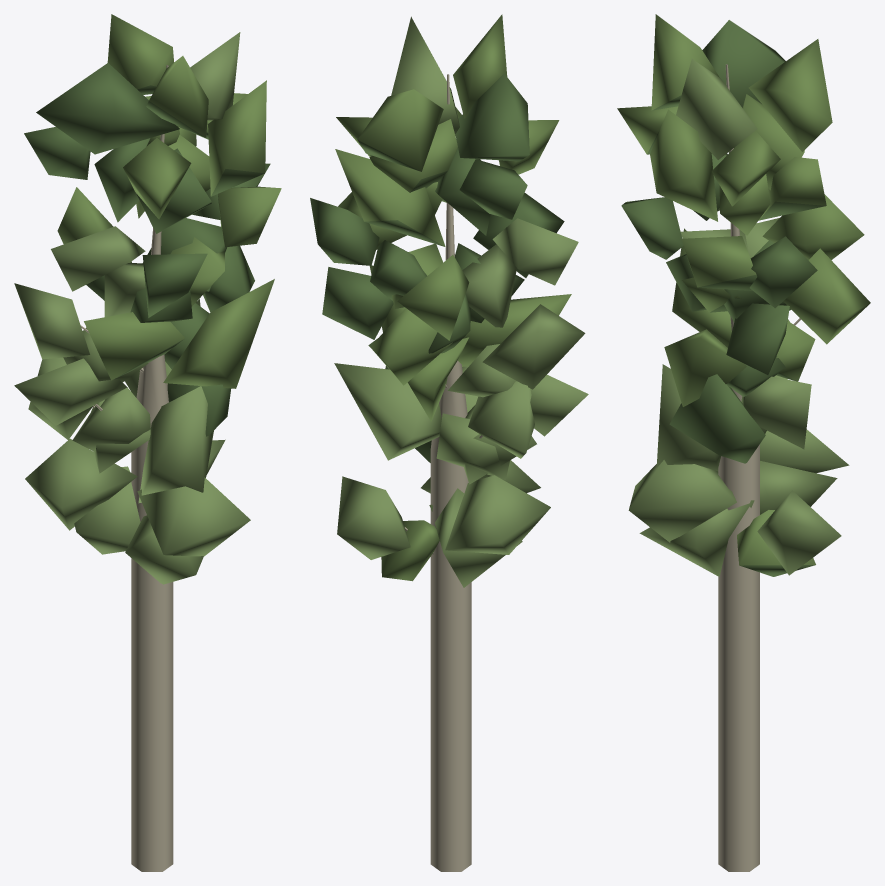
The model's file is birch-b-low.glb.
The picture shows the model from 3 angles, left to right: view 1: azimuth 30°, elevation 25°; view 2: azimuth 150°, elevation 25°; view 3: azimuth 270°, elevation 25°; orthographic projection. The views are drawn at different scales.
Size of the model in its own units: 3.16 by 9.39 by 2.56.
